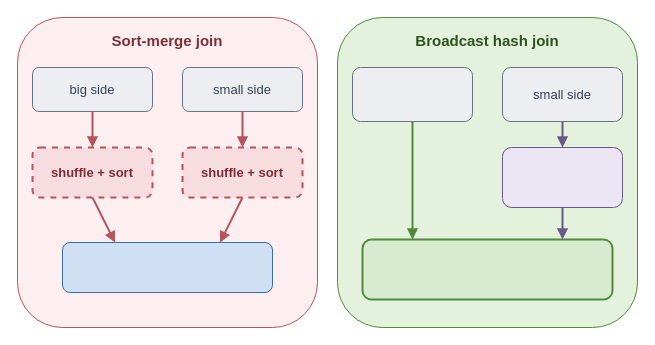
Some shapes in this 655 by 345 pixel diagram are drawn without their labels. The shapes that lost their labels are listed below. From the top down, each one's centre as x and y in pixels, then its label:
At (x=412, y=94): "big side stays in place".
At (x=562, y=177): "broadcast to every executor".
At (x=167, y=267): "merge sorted streams".
At (x=487, y=269): "probe the local hash table".
